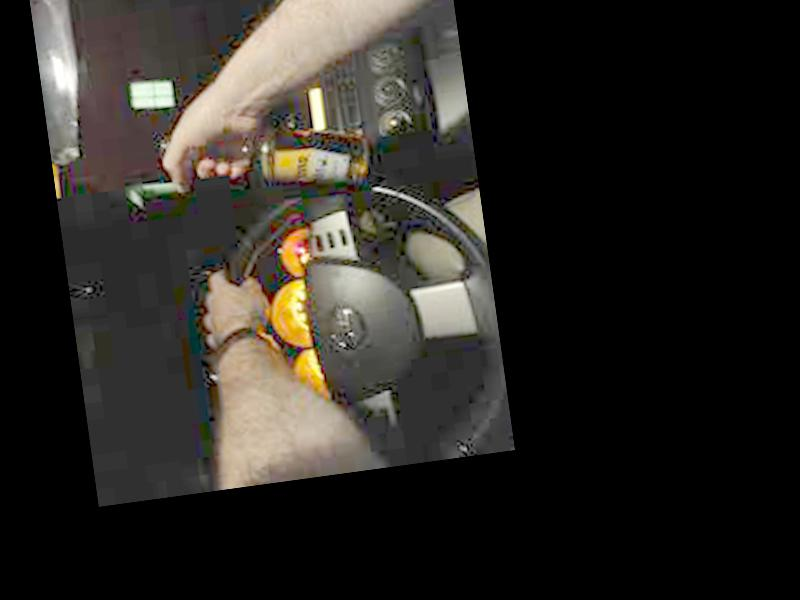Beer: (159, 108, 370, 215)
